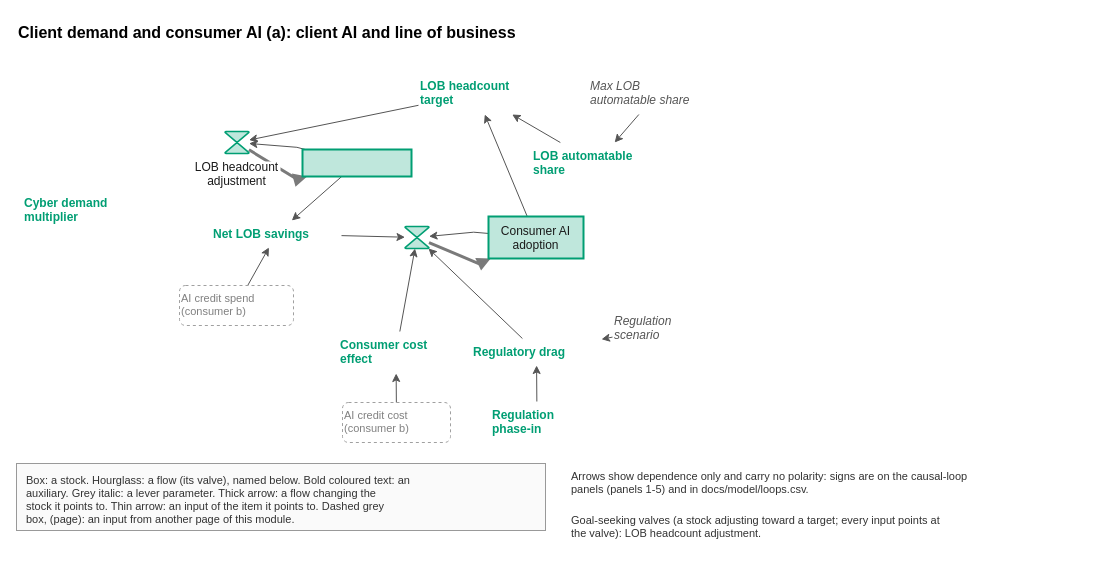
The diagram is 1109 pixels wide and 564 high, and some of its shapes have lost their labels. The shapes that lost their labels are listed below. From the top down, each one's centre as x and y in pixels, then its label:
At pixel 356 162: "LOB headcount".
At pixel 416 237: "Consumer AI adoption rate".
